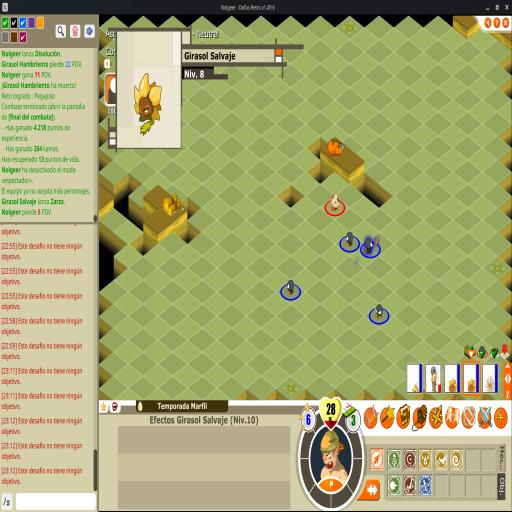Enemigos: (364, 236, 380, 254), (374, 304, 384, 320), (345, 230, 354, 246), (286, 279, 295, 295)
Personaje: (330, 193, 340, 211)
